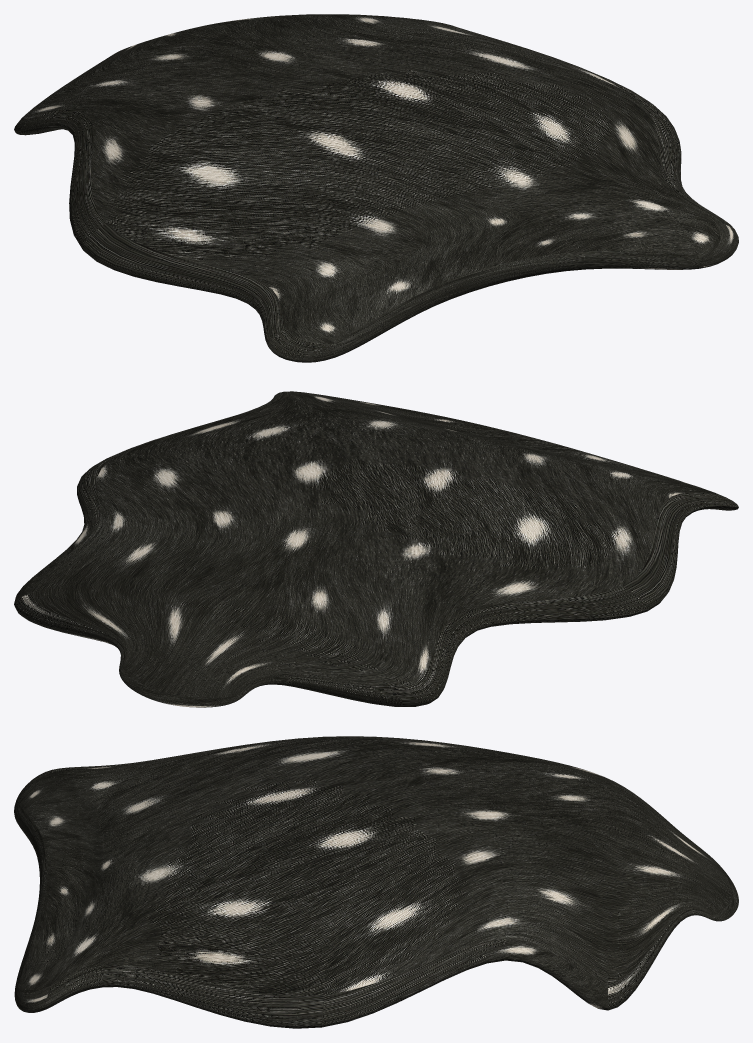
Rendered from fur_c.glb.
The picture shows the model from 3 angles, top to bottom: view 1: azimuth 30°, elevation 25°; view 2: azimuth 150°, elevation 25°; view 3: azimuth 270°, elevation 25°; orthographic projection. The views are drawn at different scales.
Parts seen in each view (by area): view 1: Cube; view 2: Cube; view 3: Cube.
Boxes of the visible parts, x1,y1,x2,y2 form: Cube: [14, 14, 738, 362]; Cube: [14, 391, 738, 707]; Cube: [14, 736, 738, 1028].
Size of the model in its own units: 2.54 by 0.4004 by 2.76.
1 material, 1 textured.
